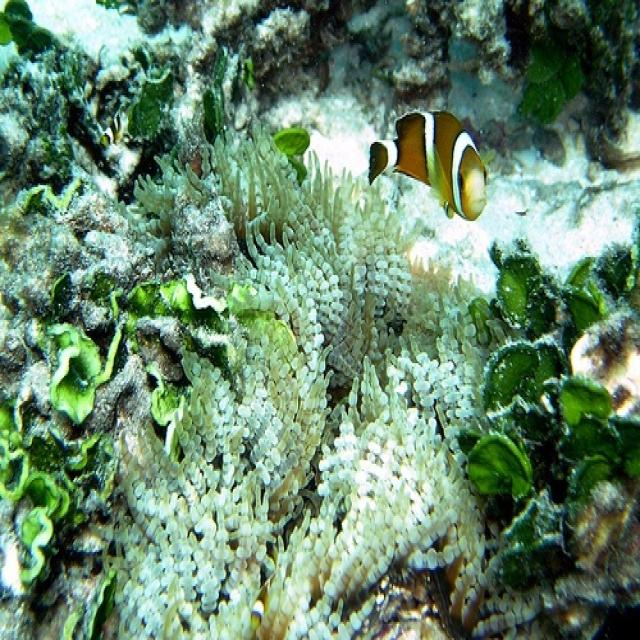aquatic plants: (468, 229, 639, 581), (0, 399, 118, 592), (37, 274, 122, 425), (83, 275, 224, 351)
fish: (369, 109, 496, 220), (439, 200, 455, 220)
reefs: (87, 79, 541, 638)
